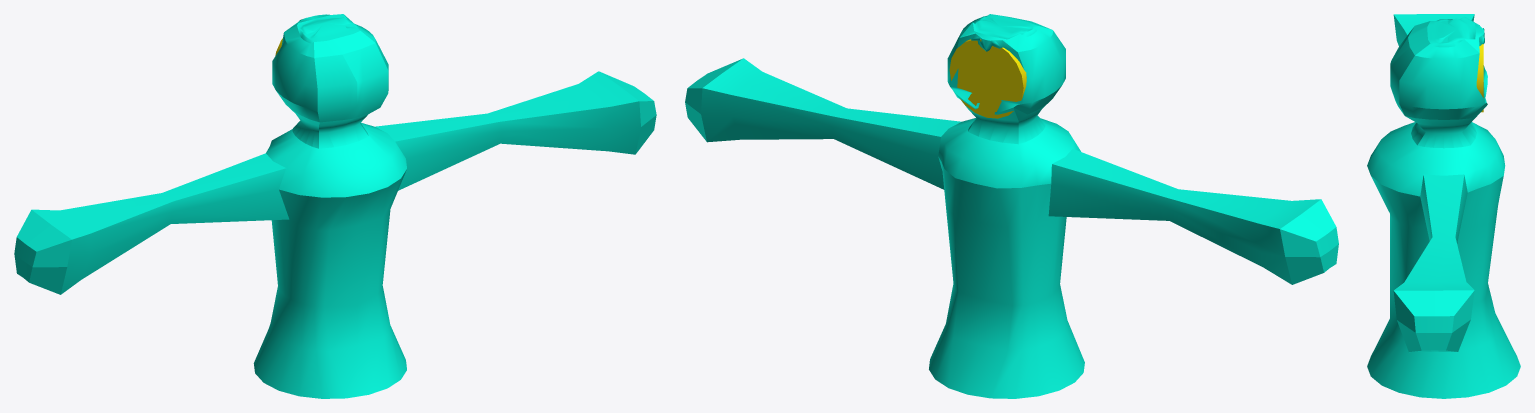
Rendered from waterboss2.fbx.
3 views of the same model, side by side, from view 1: azimuth 30°, elevation 25°; view 2: azimuth 150°, elevation 25°; view 3: azimuth 270°, elevation 25° (orthographic). The views are drawn at different scales.
Parts seen in each view (by area): view 1: polySurface1; view 2: polySurface1; view 3: polySurface1.
Boxes of the visible parts, x1,y1,x2,y2 form: polySurface1: (14,14,656,398); polySurface1: (685,14,1338,398); polySurface1: (1367,14,1520,398).
Bounding box in the file's own units: 6.55 × 3.39 × 1.4.
